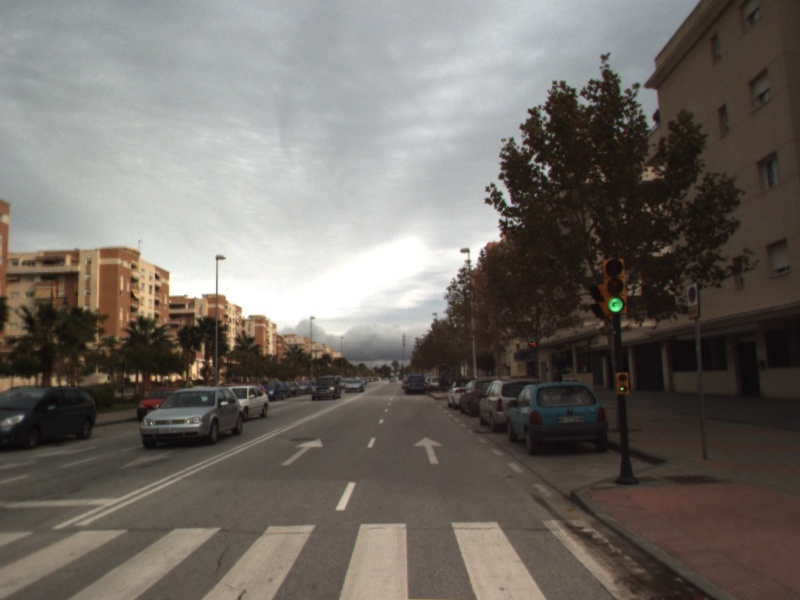STRAIGHT: (279, 436, 325, 467), (411, 434, 445, 466)
